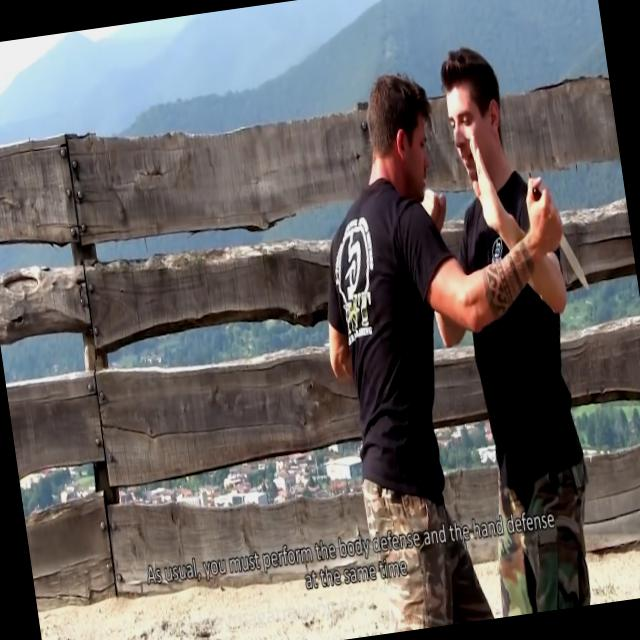knife: (522, 166, 593, 302)
